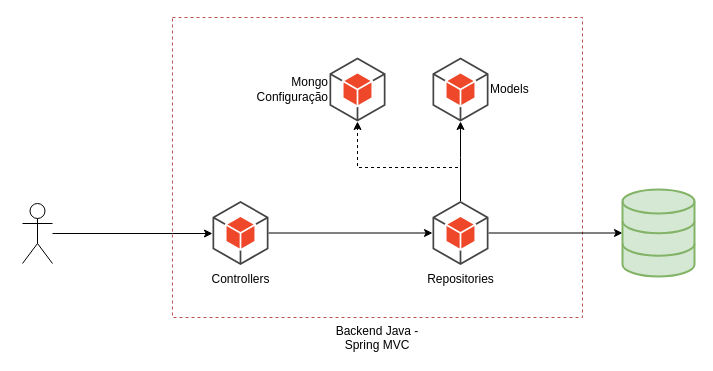
Some shapes in this 713 by 371 pixel diagram are drawn without their labels. The box of each missing label's shape, as (x1, y1, x2, y2) in pixels:
MongoDB: (621, 188, 695, 277)
Usuário: (22, 202, 52, 264)
